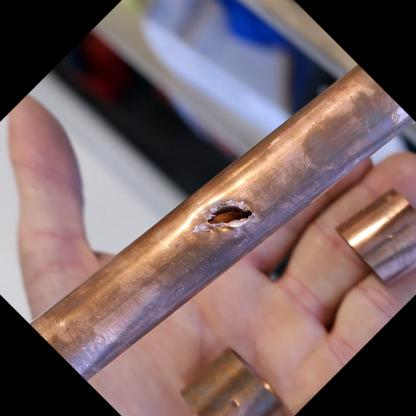burst: (192, 189, 258, 241)
